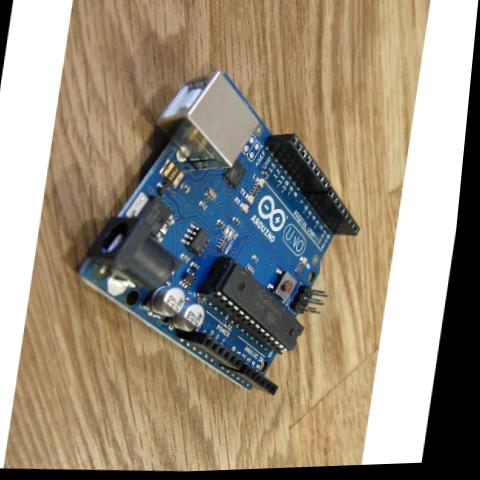Arduino-Uno: (56, 57, 389, 407)
